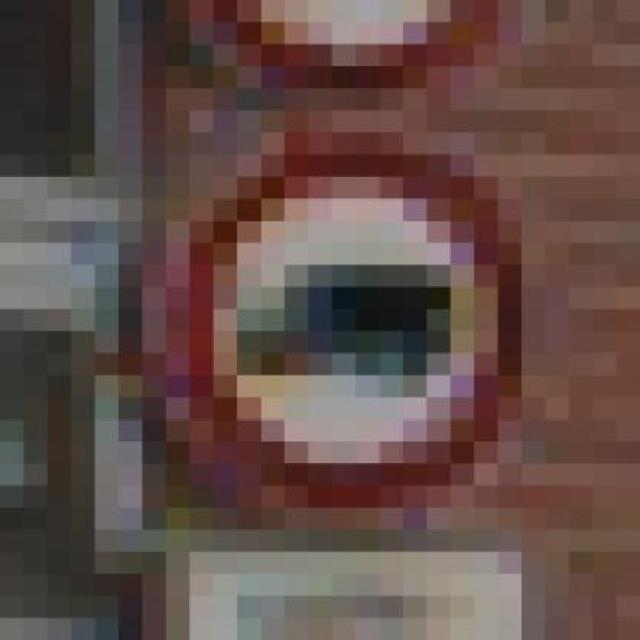Truck traffic is prohibited: (80, 114, 578, 534)
